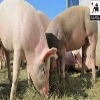heo: (48, 5, 99, 46), (25, 49, 58, 99), (66, 49, 83, 69)
